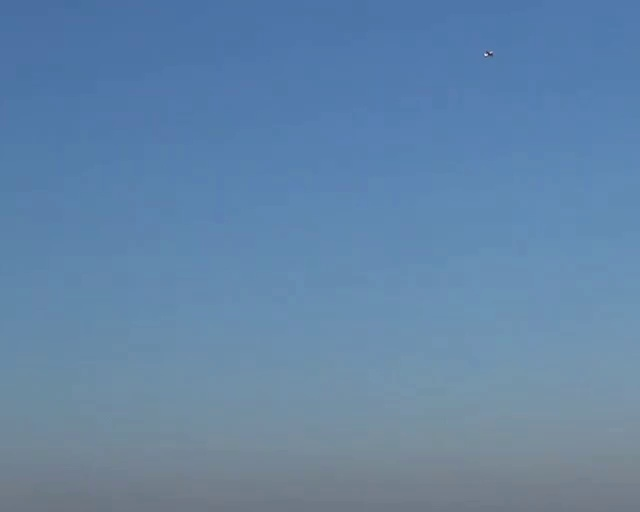AIRPLANE: (483, 49, 494, 57)
